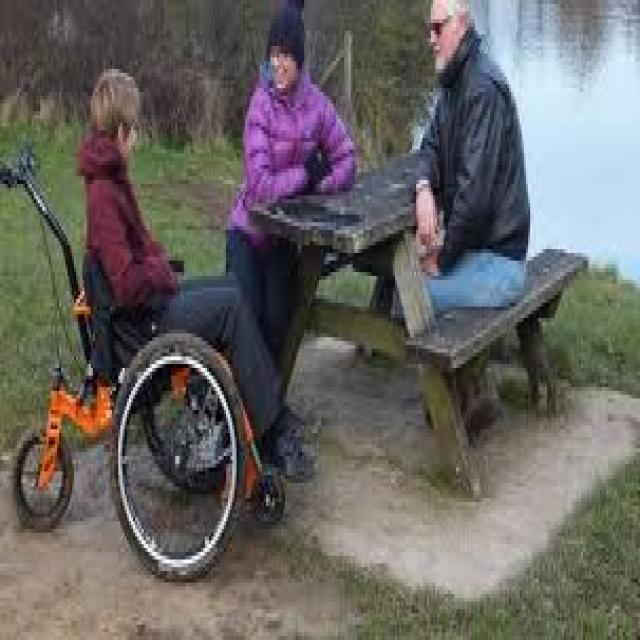wheelchairs: (82, 268, 288, 579)
